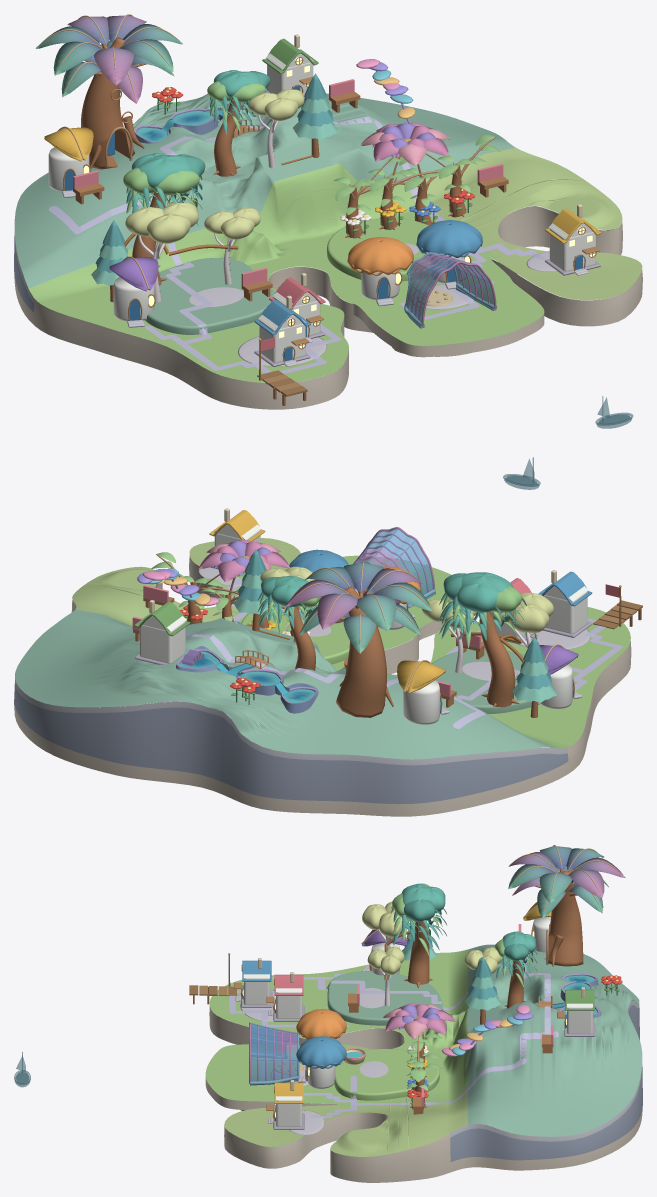
The model's file is central-shoulder-source-first.glb.
3 renders of one model, top to bottom at view 1: azimuth 30°, elevation 25°; view 2: azimuth 150°, elevation 25°; view 3: azimuth 270°, elevation 25°, orthographic. The views are drawn at different scales.
Visible parts, largest first — view 1: World floor / ["native05-inlet-core","Island / continuous sc (×3), Coast / continuous layered shore:0, Central shoulder / continuous closed supporting soil, grove / living violet and jade lamina, growing-reachable-paths, World floor / ["native05-inlet-core","Grove / rounded living, World floor / ["native05-cove-corner-shared-apron-v1","share, sculpted tree wood.002, authored-bank.051, silver birch / pale gold leaves.001, World floor / ["native05-inlet-core","Garden / rounded flowe, Harbor__continuous_translucent_shell_hall_1 (+38 smaller); view 2: World floor / ["native05-inlet-core","Island / continuous sc (×3), Coast / continuous layered shore:1, Coast / continuous layered shore:0, grove / living violet and jade lamina, Coast / continuous layered shore:2, sculpted tree wood.002, growing-reachable-paths, willow / pale blue jade leaves.001, World floor / ["native05-inlet-core","Grove / rounded living, sculpted tree wood.004, Harbor__continuous_translucent_shell_hall_1, house / porcelain plaster.004 (+30 smaller); view 3: World floor / ["native05-inlet-core","Island / continuous sc (×3), Coast / continuous layered shore:0, grove / living violet and jade lamina, Coast / continuous layered shore:1, growing-reachable-paths, World floor / ["native05-inlet-core","Grove / rounded living, World floor / ["native05-inlet-core","Garden / rounded flowe, sculpted tree wood.002, Harbor__continuous_translucent_shell_hall_1, World floor / ["native05-cove-corner-shared-apron-v1","share, Central shoulder / continuous closed supporting soil, home / scalloped blue cap.001 (+27 smaller).
Boxes of the visible parts, box(x1,y1,x2,y2) form: World floor / ["native05-inlet-core","Island / continuous sc (×3): box(14, 89, 642, 382); Coast / continuous layered shore:0: box(14, 206, 642, 409); Central shoulder / continuous closed supporting soil: box(246, 123, 357, 240); grove / living violet and jade lamina: box(35, 15, 182, 103); growing-reachable-paths: box(49, 116, 544, 373); World floor / ["native05-inlet-core","Grove / rounded living: box(147, 258, 274, 329); World floor / ["native05-cove-corner-shared-apron-v1","share: box(355, 282, 544, 345); sculpted tree wood.002: box(81, 37, 144, 169); authored-bank.051: box(353, 304, 544, 357); silver birch / pale gold leaves.001: box(125, 202, 198, 243); World floor / ["native05-inlet-core","Garden / rounded flowe: box(327, 218, 429, 275); Harbor__continuous_translucent_shell_hall_1: box(406, 257, 493, 322); World floor / ["native05-inlet-core","Island / continuous sc (×3): box(15, 538, 630, 759); Coast / continuous layered shore:1: box(14, 609, 568, 804); Coast / continuous layered shore:0: box(14, 555, 631, 816); grove / living violet and jade lamina: box(286, 562, 431, 653); Coast / continuous layered shore:2: box(15, 604, 567, 765); sculpted tree wood.002: box(336, 586, 393, 717); growing-reachable-paths: box(185, 579, 623, 728); willow / pale blue jade leaves.001: box(439, 572, 526, 634); World floor / ["native05-inlet-core","Grove / rounded living: box(431, 648, 531, 708); sculpted tree wood.004: box(479, 611, 519, 707); Harbor__continuous_translucent_shell_hall_1: box(355, 528, 433, 594); house / porcelain plaster.004: box(139, 616, 186, 663); World floor / ["native05-inlet-core","Island / continuous sc (×3): box(209, 944, 642, 1156); Coast / continuous layered shore:0: box(209, 952, 642, 1182); grove / living violet and jade lamina: box(508, 846, 625, 918); Coast / continuous layered shore:1: box(450, 1000, 642, 1161); growing-reachable-paths: box(229, 960, 558, 1118); World floor / ["native05-inlet-core","Grove / rounded living: box(327, 971, 443, 1021); World floor / ["native05-inlet-core","Garden / rounded flowe: box(334, 1049, 439, 1095); sculpted tree wood.002: box(544, 870, 583, 966); Harbor__continuous_translucent_shell_hall_1: box(251, 1023, 297, 1081); World floor / ["native05-cove-corner-shared-apron-v1","share: box(205, 1044, 300, 1101); Central shoulder / continuous closed supporting soil: box(441, 1003, 518, 1076); home / scalloped blue cap.001: box(296, 1036, 346, 1068).
Size of the model in its own units: 15.34 by 5.82 by 19.47.
